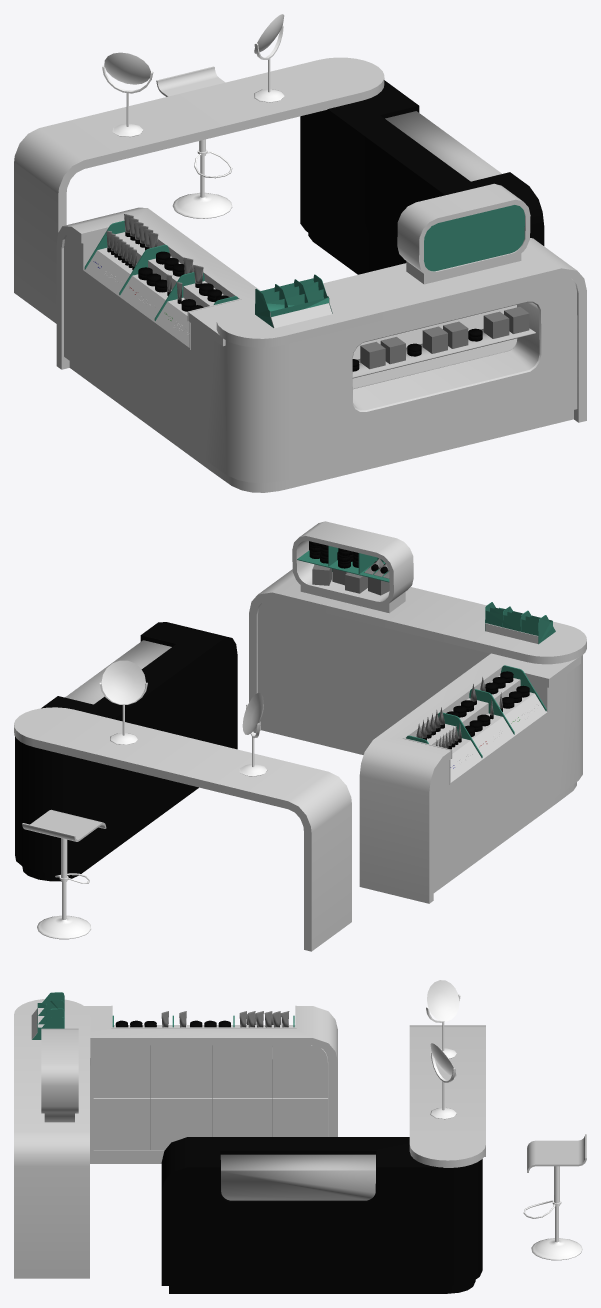
The picture shows the model from 3 angles, top to bottom: view 1: azimuth 30°, elevation 25°; view 2: azimuth 150°, elevation 25°; view 3: azimuth 270°, elevation 25°; orthographic projection. The views are drawn at different scales.
Parts seen in each view (by area): view 1: vm_v3_052_mall_island, Object001; view 2: vm_v3_052_mall_island, Object001; view 3: vm_v3_052_mall_island, Object001.
Part boxes in pixels (left/top/right/bottom): vm_v3_052_mall_island: left=14, top=14, right=586, bottom=492; Object001: left=93, top=111, right=535, bottom=378; vm_v3_052_mall_island: left=14, top=521, right=586, bottom=951; Object001: left=65, top=541, right=555, bottom=768; vm_v3_052_mall_island: left=14, top=980, right=586, bottom=1293; Object001: left=31, top=992, right=375, bottom=1200.
Bounding box in the file's own units: 323 × 192 × 482.
